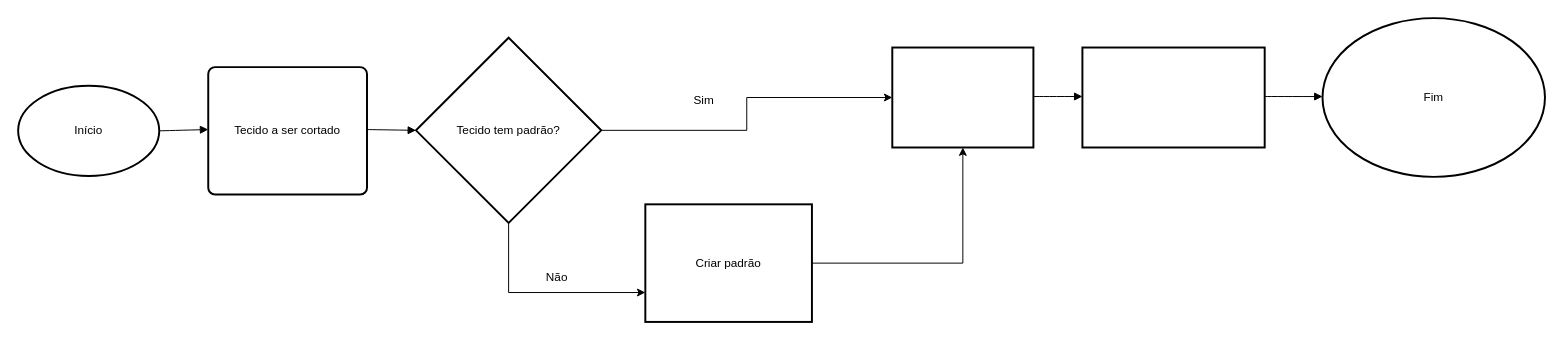
Image size: 1562x339. Some labels were removed from this diagram. Here are the shapes that lost their labels. From the top down, the centre of each, then its label:
the point at 962,97: Cortar com molde
the point at 1173,97: Acabamento das bordas
